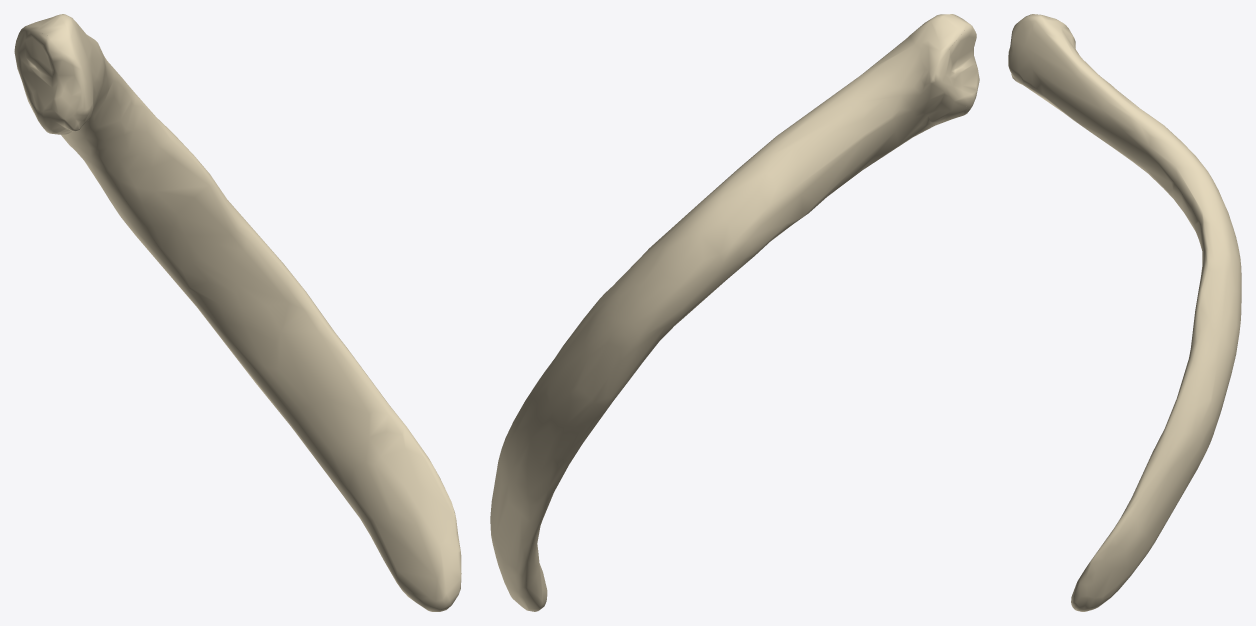
The model's file is esqueleto-twelfth-rib-l.glb.
3 views of the same model, side by side, from view 1: azimuth 30°, elevation 25°; view 2: azimuth 150°, elevation 25°; view 3: azimuth 270°, elevation 25° (orthographic). The views are drawn at different scales.
Parts seen in each view (by area): view 1: Twelfth rib.l; view 2: Twelfth rib.l; view 3: Twelfth rib.l.
Part boxes in pixels (bbox=[...]): Twelfth rib.l: bbox=[14, 14, 461, 611]; Twelfth rib.l: bbox=[490, 14, 979, 611]; Twelfth rib.l: bbox=[1008, 14, 1241, 611].
Bounding box in the file's own units: 0.066 × 0.0979 × 0.0444.
